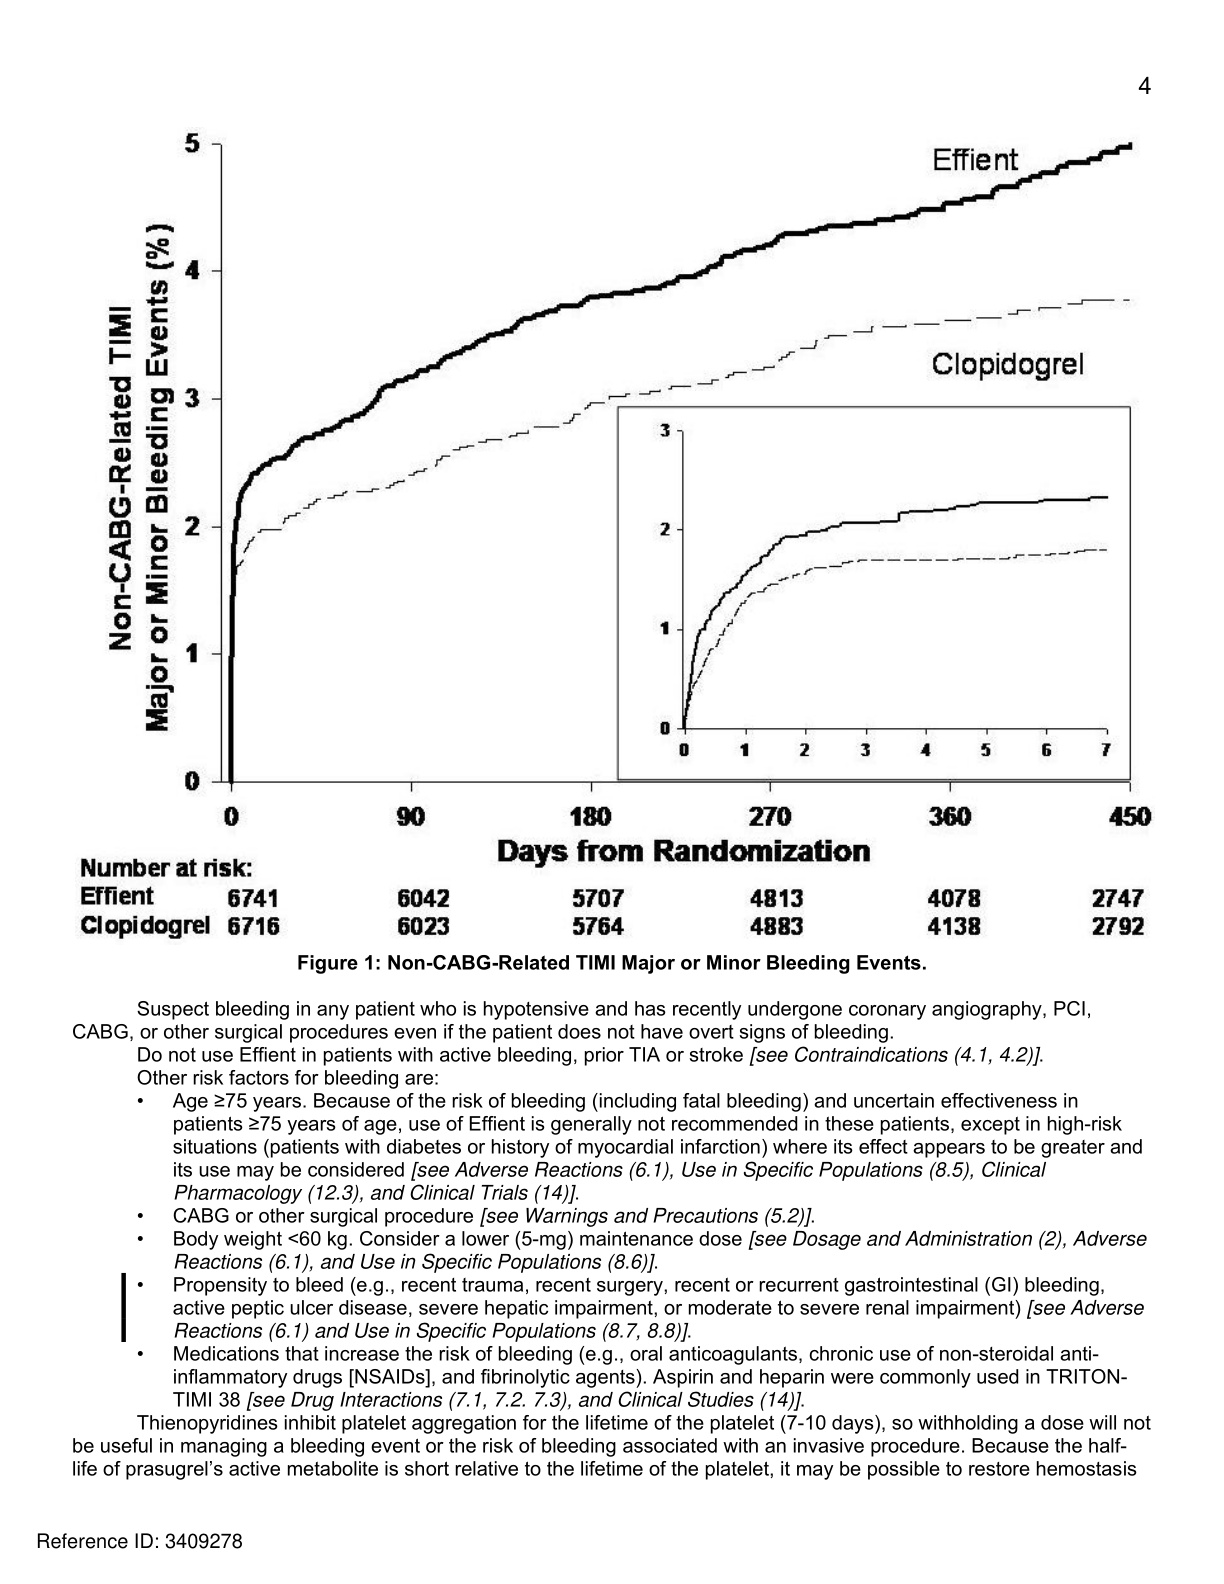nolines: (76, 882, 1146, 939)
